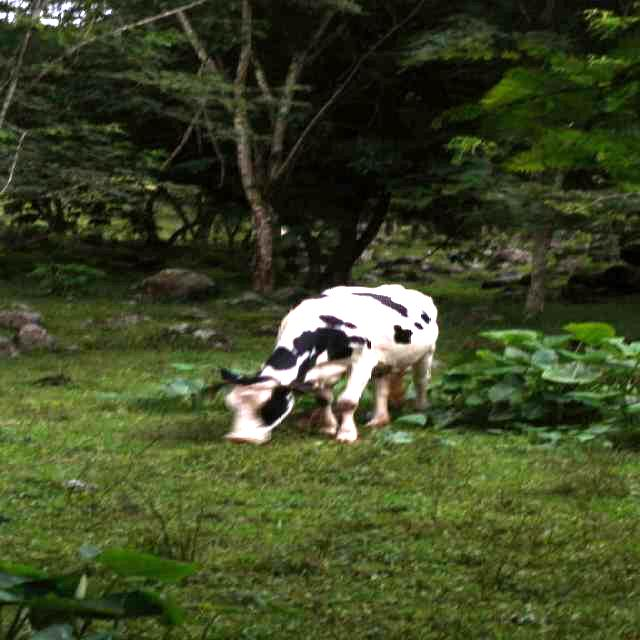COW: (226, 286, 438, 443)
